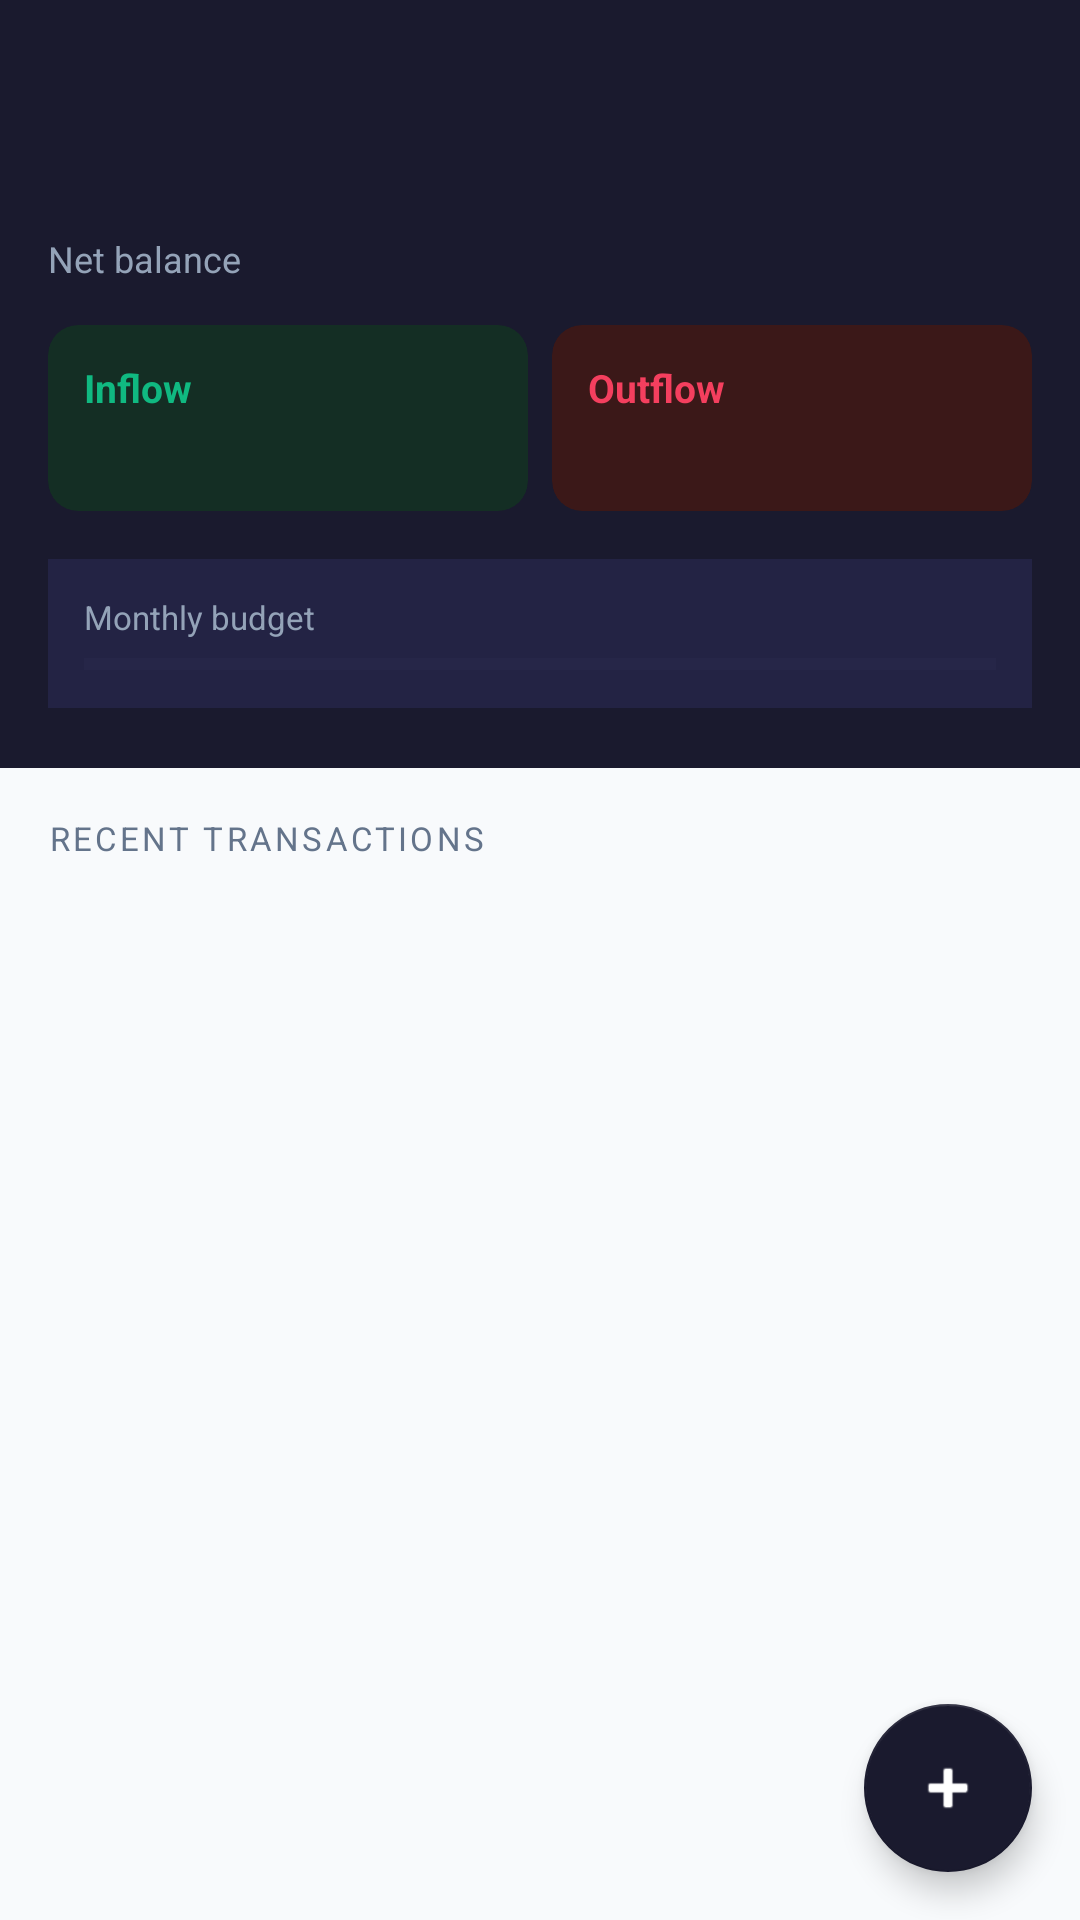

Icon click points for this 1080 × 1920 phone screenshot, format (x=x, y=y):
Add Transaction: (x=948, y=1788)
